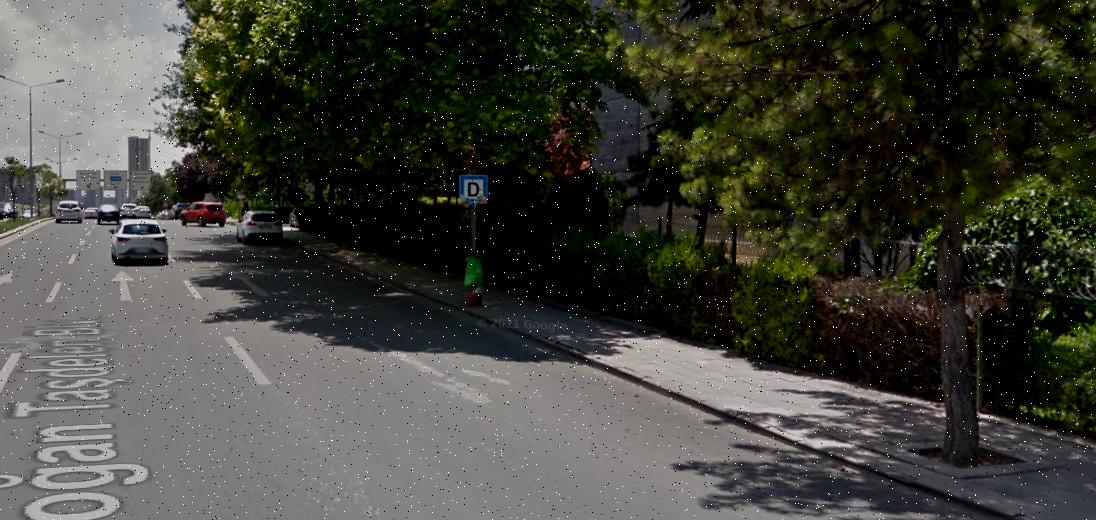station: (462, 175, 488, 202)
